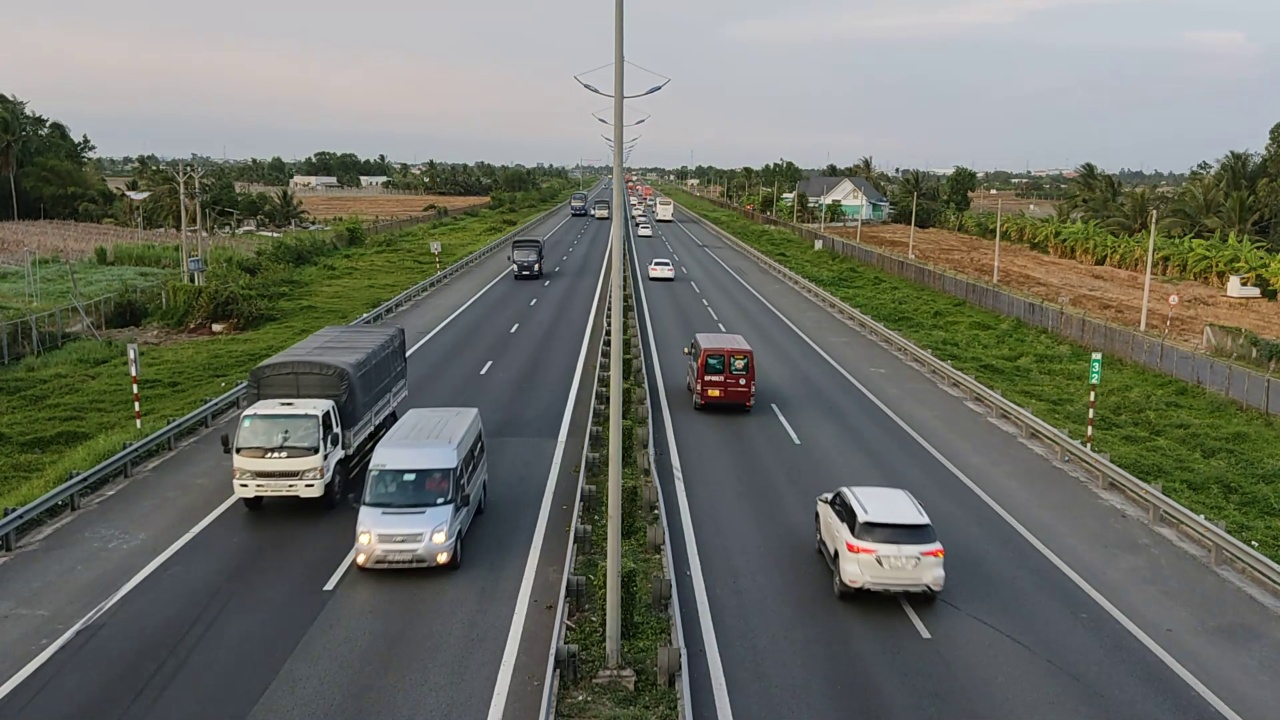car: (351, 405, 490, 571), (814, 485, 947, 600), (681, 325, 759, 418), (647, 257, 676, 281)
truck: (226, 322, 411, 510)
